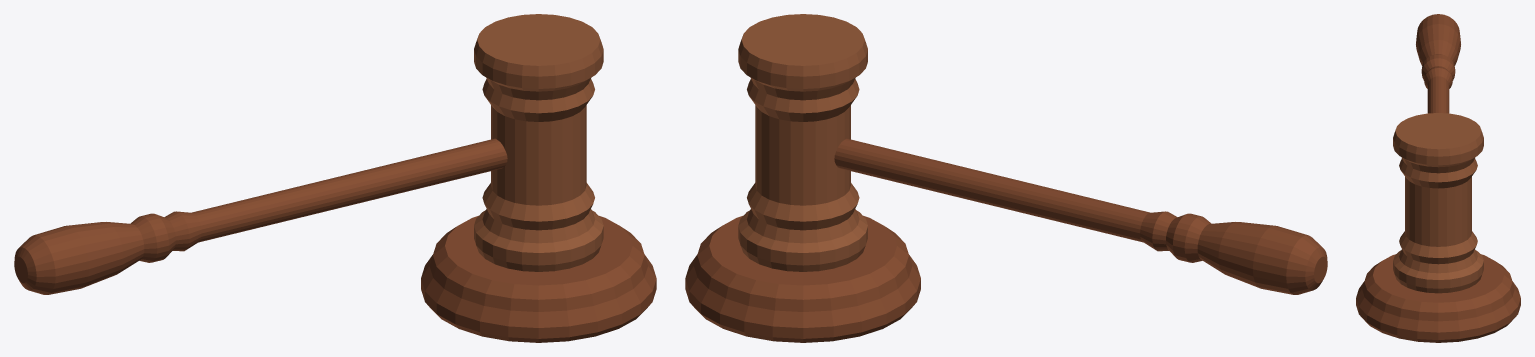
File: A-NEW-20261026-GAVEL-BLOCK-001_LOD2_R1.glb
3 renders of one model, left to right at view 1: azimuth 30°, elevation 25°; view 2: azimuth 150°, elevation 25°; view 3: azimuth 270°, elevation 25°, orthographic. The views are drawn at different scales.
Visible parts, largest first — view 1: barrel gavel head, turned handle, turned strike block; view 2: barrel gavel head, turned handle, turned strike block; view 3: barrel gavel head, turned strike block, turned handle.
Boxes of the visible parts, x1,y1,x2,y2 form: barrel gavel head: (474,14,603,271); turned handle: (14,138,507,294); turned strike block: (421,215,656,342); barrel gavel head: (738,14,867,271); turned handle: (834,138,1327,294); turned strike block: (685,215,920,342); barrel gavel head: (1393,113,1483,293); turned strike block: (1356,254,1520,342); turned handle: (1416,14,1460,113).
Size of the model in its own units: 0.419 by 0.165 by 0.138.
